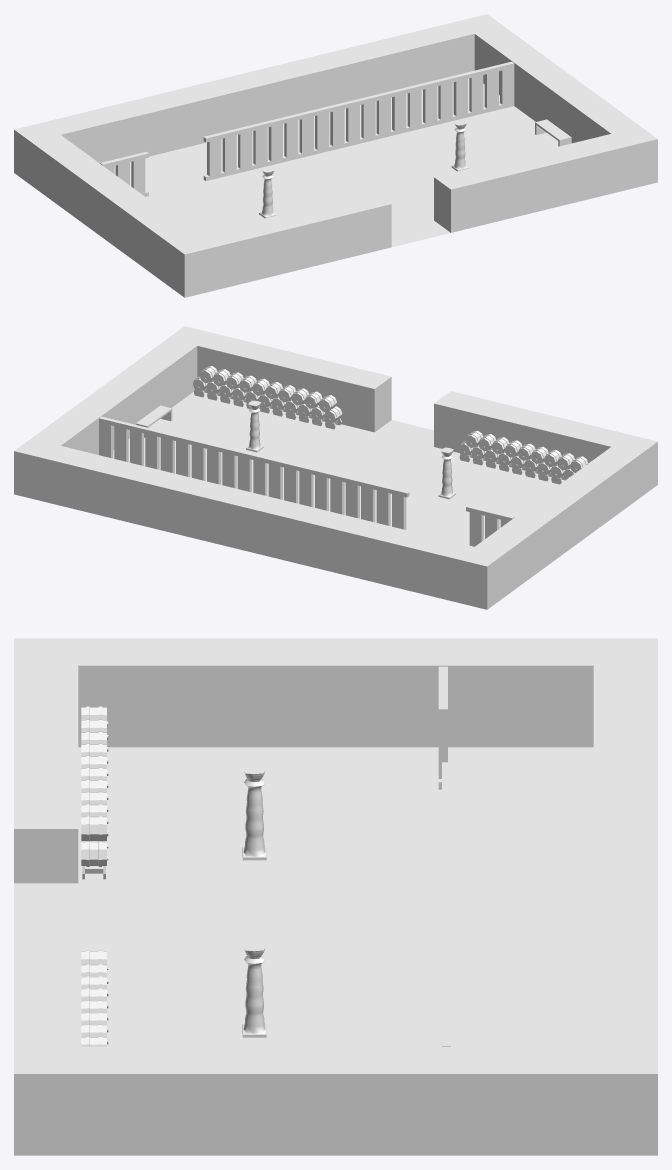
The model's file is lmaoxde321.obj.
3 views of the same model, one above another, from view 1: azimuth 30°, elevation 25°; view 2: azimuth 150°, elevation 25°; view 3: azimuth 270°, elevation 25° (orthographic). The views are drawn at different scales.
Visible parts, largest first — view 1: polySurface1_RoomScale_room, Railing_Cube_004, Railing_001_Cube_005, PillarLowPoly, Desk_Cube_008; view 2: polySurface1_RoomScale_room, Railing_Cube_004, Barrel011, Barrel010, PillarLowPoly, Railing_001_Cube_005, Desk_Cube_008; view 3: polySurface1_RoomScale_room, Barrel010, PillarLowPoly, Barrel011, Railing_Cube_004, Railing_001_Cube_005.
Boxes of the visible parts, x1=… form: polySurface1_RoomScale_room: x1=14, y1=14, x2=657, y2=297; Railing_Cube_004: x1=203, y1=61, x2=514, y2=180; Railing_001_Cube_005: x1=100, y1=151, x2=148, y2=196; PillarLowPoly: x1=259, y1=120, x2=468, y2=218; Desk_Cube_008: x1=535, y1=119, x2=571, y2=146; polySurface1_RoomScale_room: x1=14, y1=326, x2=657, y2=609; Railing_Cube_004: x1=99, y1=416, x2=409, y2=530; Barrel011: x1=193, y1=366, x2=342, y2=429; Barrel010: x1=458, y1=430, x2=591, y2=484; PillarLowPoly: x1=246, y1=400, x2=455, y2=499; Railing_001_Cube_005: x1=466, y1=505, x2=514, y2=546; Desk_Cube_008: x1=136, y1=405, x2=172, y2=437; polySurface1_RoomScale_room: x1=14, y1=638, x2=657, y2=1155; Barrel010: x1=81, y1=706, x2=108, y2=879; PillarLowPoly: x1=242, y1=765, x2=266, y2=1037; Barrel011: x1=81, y1=950, x2=108, y2=1046; Railing_Cube_004: x1=442, y1=762, x2=450, y2=1046; Railing_001_Cube_005: x1=438, y1=666, x2=447, y2=789.
Size of what is drawn, in the model's own units: 80 by 7.39 by 50.
